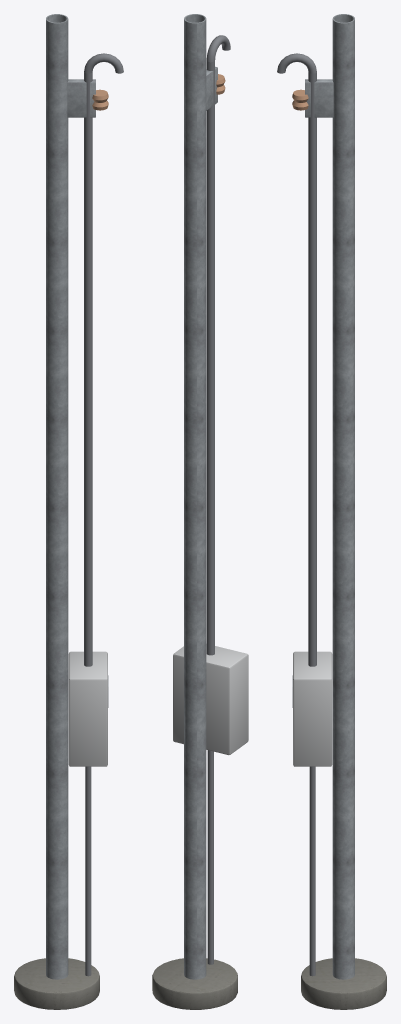
Rendered from ELE-ENT-001.glb.
3 renders of one model, left to right at view 1: azimuth 90°, elevation 25°; view 2: azimuth 150°, elevation 25°; view 3: azimuth 270°, elevation 25°, orthographic.
Parts seen in each view (by area): view 1: ELE-ENT-001_poste, ELE-ENT-001_eletroduto, ELE-ENT-001_caixa, ELE-ENT-001_base, ELE-ENT-001_ramal, ELE-ENT-001_armacao, ELE-ENT-001_curva, ELE-ENT-001_roldana; view 2: ELE-ENT-001_poste, ELE-ENT-001_caixa, ELE-ENT-001_eletroduto, ELE-ENT-001_base, ELE-ENT-001_ramal, ELE-ENT-001_armacao, ELE-ENT-001_curva; view 3: ELE-ENT-001_poste, ELE-ENT-001_eletroduto, ELE-ENT-001_caixa, ELE-ENT-001_base, ELE-ENT-001_ramal, ELE-ENT-001_armacao, ELE-ENT-001_curva, ELE-ENT-001_roldana.
Part boxes in pixels (bbox=[...]): ELE-ENT-001_poste: bbox=[46, 14, 68, 979]; ELE-ENT-001_eletroduto: bbox=[84, 72, 92, 666]; ELE-ENT-001_caixa: bbox=[68, 651, 107, 766]; ELE-ENT-001_base: bbox=[14, 958, 99, 1009]; ELE-ENT-001_ramal: bbox=[85, 766, 91, 976]; ELE-ENT-001_armacao: bbox=[67, 79, 95, 117]; ELE-ENT-001_curva: bbox=[84, 53, 123, 73]; ELE-ENT-001_roldana: bbox=[92, 89, 108, 110]; ELE-ENT-001_poste: bbox=[184, 14, 206, 979]; ELE-ENT-001_caixa: bbox=[173, 644, 248, 755]; ELE-ENT-001_eletroduto: bbox=[206, 61, 214, 655]; ELE-ENT-001_base: bbox=[152, 958, 237, 1009]; ELE-ENT-001_ramal: bbox=[207, 750, 213, 964]; ELE-ENT-001_armacao: bbox=[206, 66, 217, 110]; ELE-ENT-001_curva: bbox=[206, 35, 230, 62]; ELE-ENT-001_poste: bbox=[332, 14, 354, 979]; ELE-ENT-001_eletroduto: bbox=[308, 72, 316, 666]; ELE-ENT-001_caixa: bbox=[293, 651, 332, 766]; ELE-ENT-001_base: bbox=[301, 958, 386, 1009]; ELE-ENT-001_ramal: bbox=[309, 766, 315, 976]; ELE-ENT-001_armacao: bbox=[305, 79, 333, 117]; ELE-ENT-001_curva: bbox=[277, 53, 316, 73]; ELE-ENT-001_roldana: bbox=[292, 89, 308, 110].
Size of the model in its own units: 0.44 by 5.5 by 0.562.
Materials: 7 (2 with a texture image).
